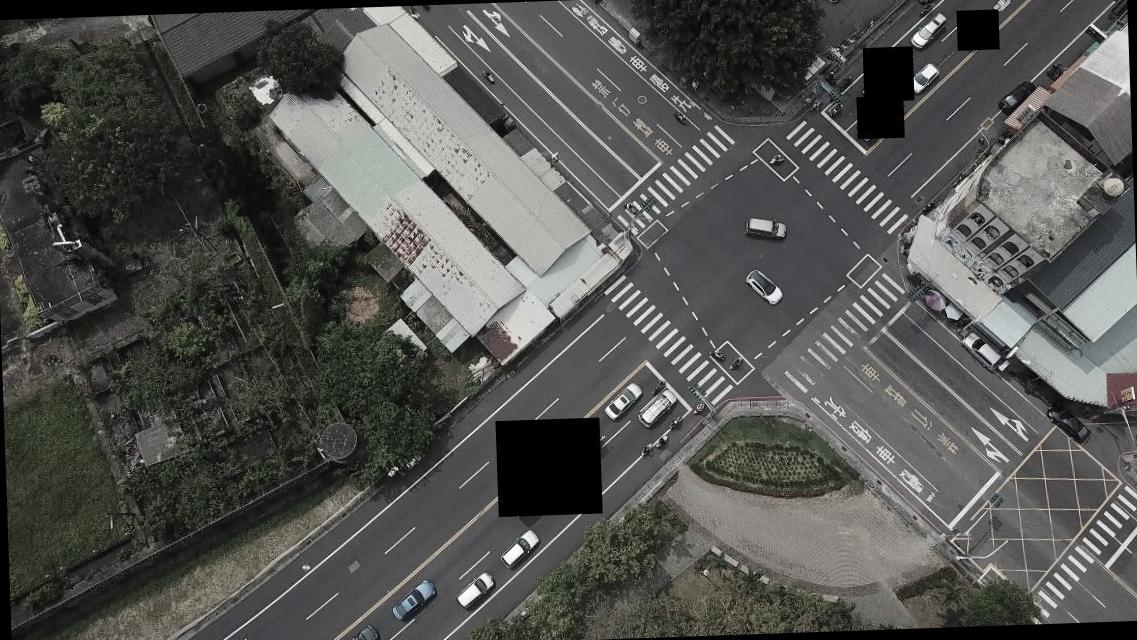vehicle: (389, 578, 436, 620), (1048, 400, 1090, 442), (554, 471, 594, 512), (638, 388, 678, 428), (500, 528, 540, 568), (455, 571, 495, 610), (602, 382, 643, 420), (962, 331, 1001, 368), (910, 12, 946, 50), (997, 80, 1036, 114), (746, 268, 782, 304), (908, 60, 941, 95), (742, 216, 788, 241), (337, 623, 380, 639), (913, 0, 940, 6)
